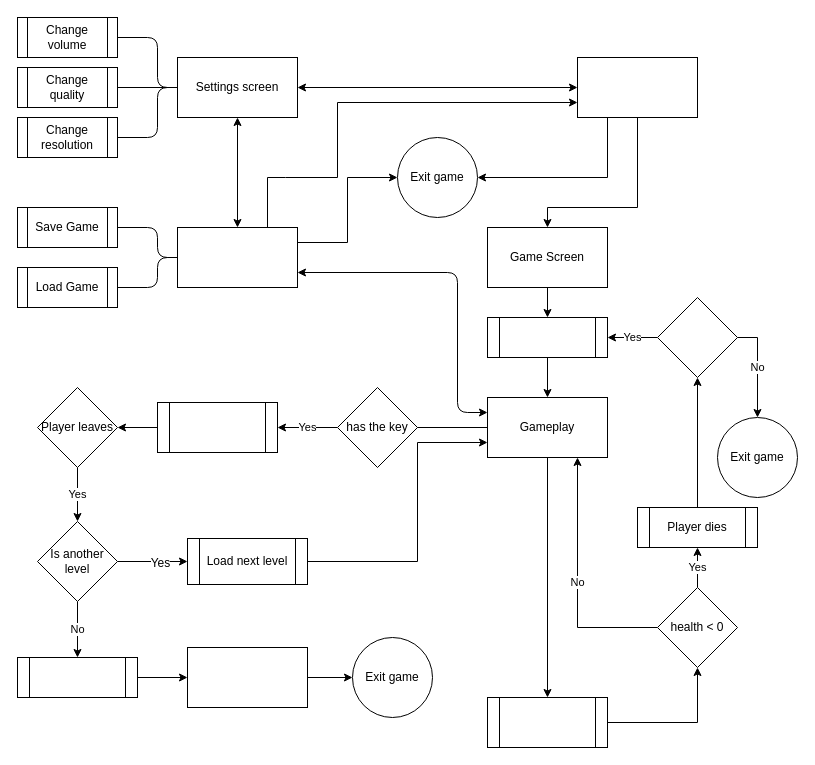
This 815x765 diagram has some shape labels left out. Here are the shapes that lost their labels. From the top down, the box of each, then its label:
(576, 56, 698, 118): Main Menu
(176, 226, 298, 288): Pause Screen
(486, 316, 608, 358): Spawns player
(656, 296, 738, 378): Has lives left
(156, 402, 278, 452): Exit door opens
(16, 656, 138, 698): Logs players score
(186, 646, 308, 708): Game over screen
(486, 696, 608, 748): Player gets hit
